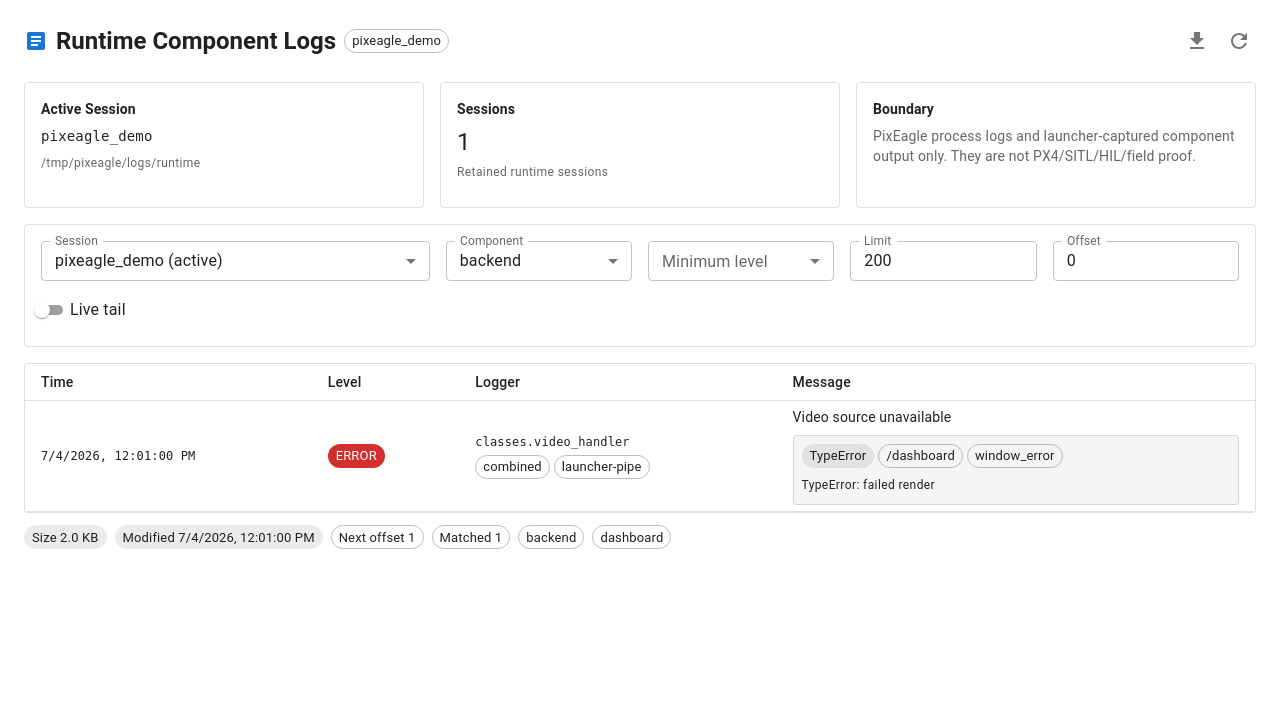
Test: ignores stale live-tail poll responses after disabling live tail
Expected: the text "Video source unavailable" is shown, [792,409,951,425]
Click the checkbox labelled "Live tail": (78, 310) [30,298,126,322]
Wait 2000 ms
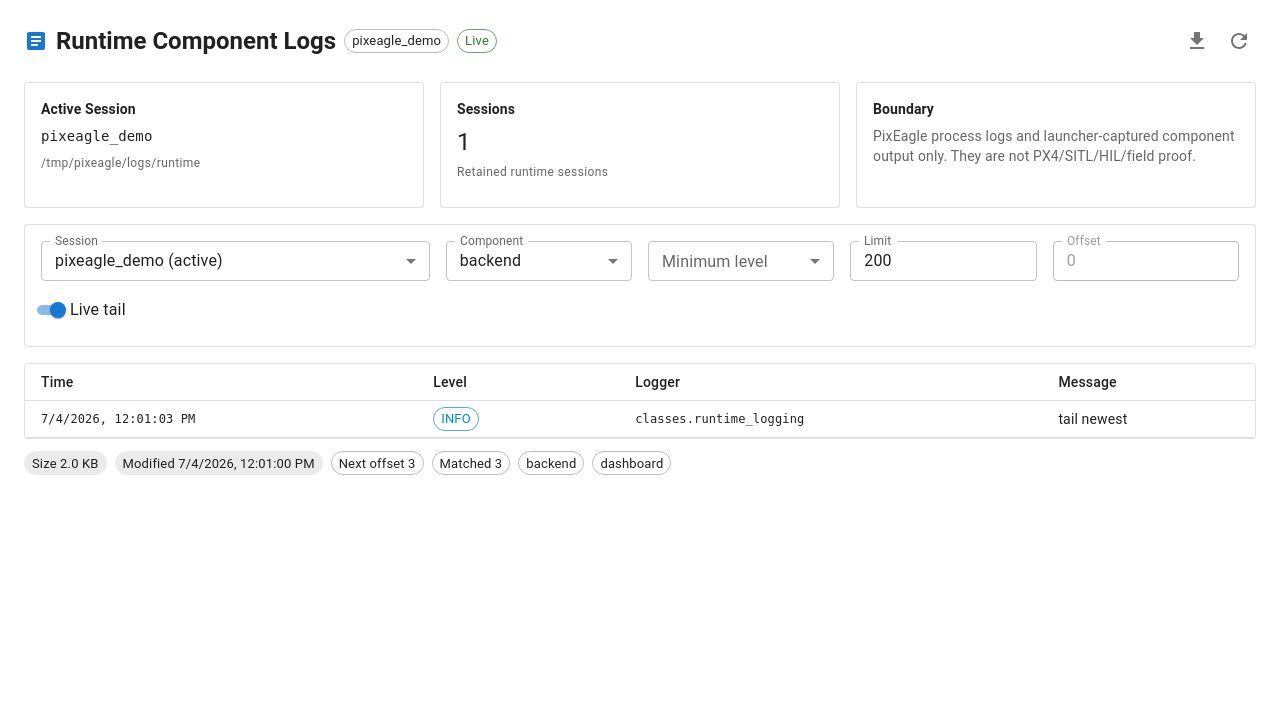
Result: the text "tail newest" is shown at [1058,411,1127,427]
Click the checkbox labelled "Live tail": (78, 310) [30,298,126,322]
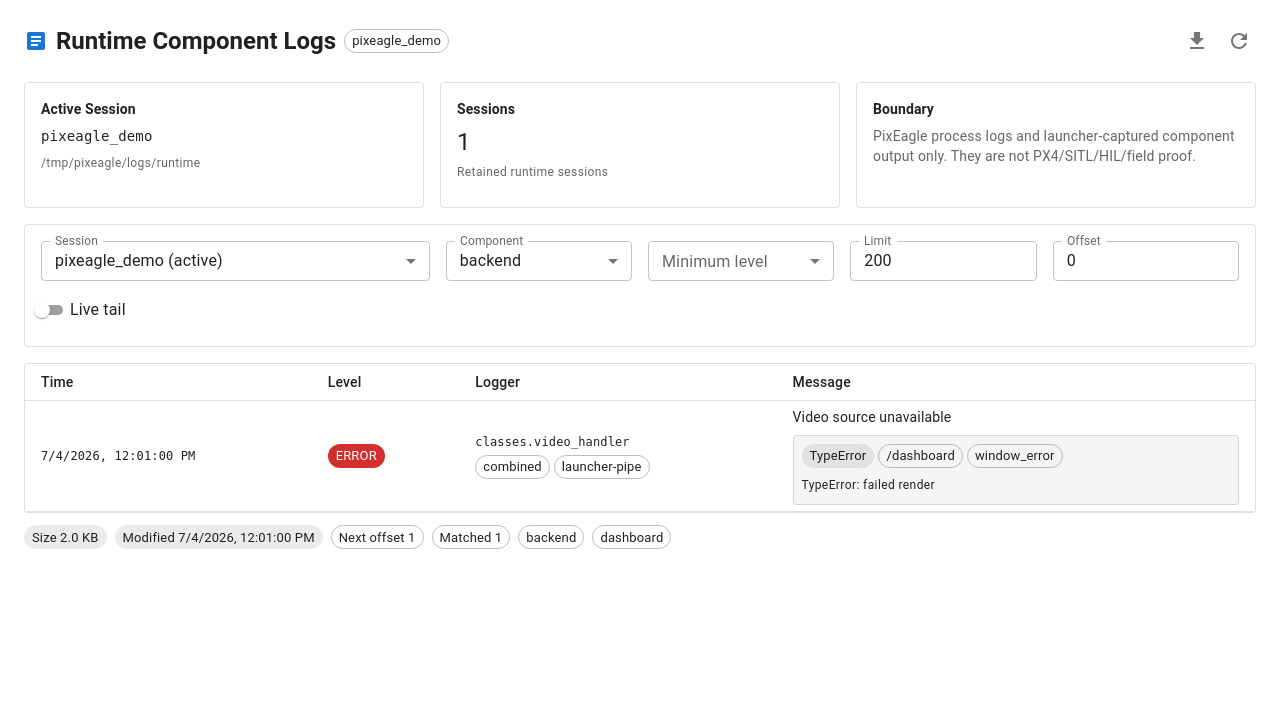
Result: the text "Video source unavailable" is shown at [792,409,951,425]
